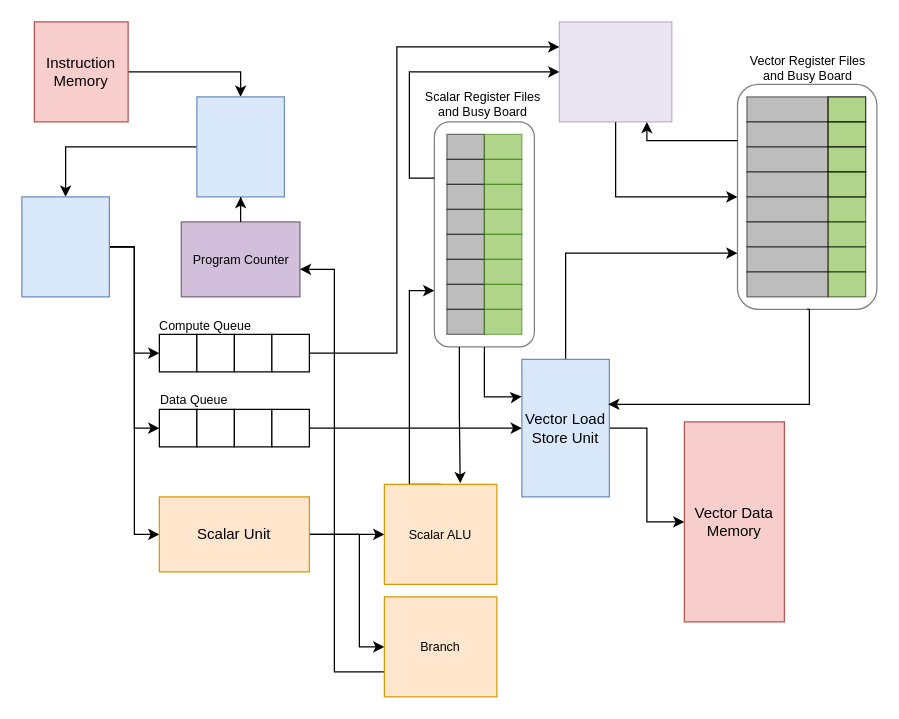
Some shapes in this 899 by 719 pixel diagram are drawn without their labels. Here are the shapes that lost their labels. From the top down, the centre of each, then its label:
the point at 615,71: Vector ALU
the point at 240,146: Fetch
the point at 65,246: Decode
